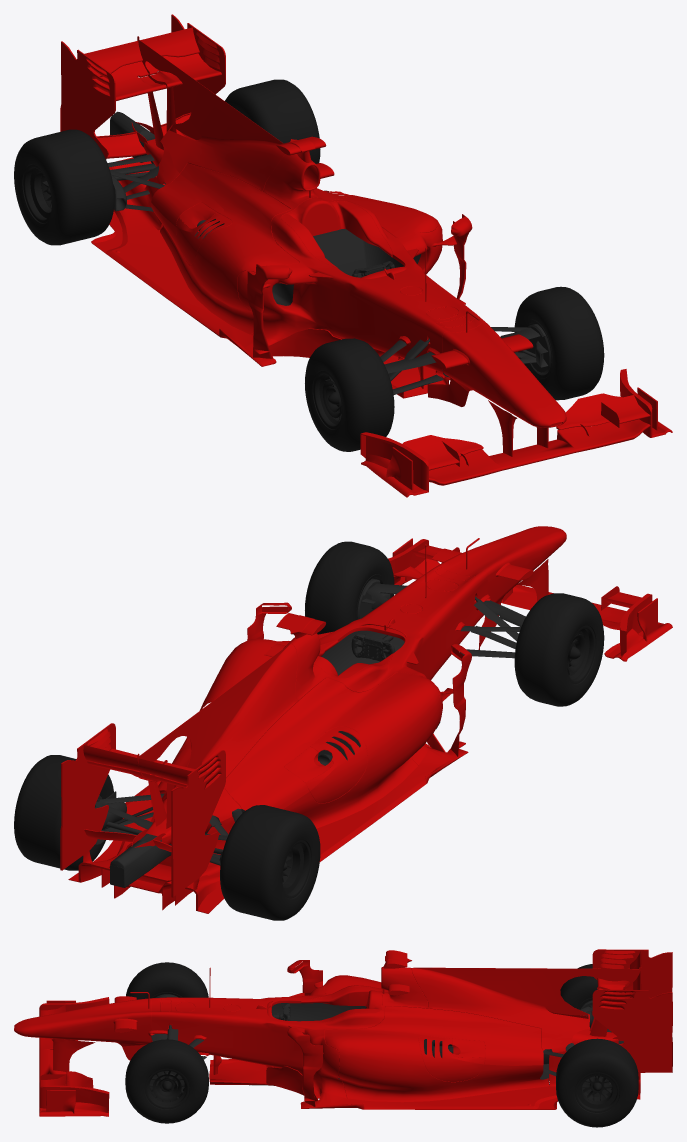
The model's file is 2014_ferrari_f1.glb.
3 renders of one model, top to bottom at view 1: azimuth 30°, elevation 25°; view 2: azimuth 150°, elevation 25°; view 3: azimuth 270°, elevation 25°, orthographic. The views are drawn at different scales.
Visible parts, largest first — view 1: Body, Treads, Front_Bumper, Back_Bumper, Tyres, Generic, Internal, Wheel_Plates; view 2: Body, Treads, Back_Bumper, Tyres, Front_Bumper, Generic, Internal, Wheel_Plates, Steering; view 3: Body, Back_Bumper, Tyres, Treads, Front_Bumper, Wheel_Plates, Internal, Generic.
Part boxes in pixels (left/top/right/bottom): Body: left=91, top=36, right=566, bottom=427; Treads: left=19, top=79, right=603, bottom=451; Front_Bumper: left=360, top=369, right=672, bottom=497; Back_Bumper: left=60, top=14, right=225, bottom=159; Tyres: left=14, top=93, right=604, bottom=449; Generic: left=107, top=154, right=551, bottom=394; Internal: left=110, top=111, right=449, bottom=377; Wheel_Plates: left=23, top=164, right=552, bottom=429; Body: left=68, top=526, right=566, bottom=913; Treads: left=14, top=541, right=596, bottom=920; Back_Bumper: left=60, top=723, right=225, bottom=897; Tyres: left=71, top=552, right=604, bottom=918; Front_Bumper: left=388, top=538, right=672, bottom=661; Generic: left=94, top=578, right=525, bottom=887; Internal: left=110, top=630, right=440, bottom=887; Wheel_Plates: left=99, top=574, right=595, bottom=898; Steering: left=351, top=634, right=395, bottom=661; Body: left=14, top=950, right=641, bottom=1109; Back_Bumper: left=592, top=949, right=672, bottom=1072; Tyres: left=129, top=976, right=635, bottom=1126; Treads: left=125, top=962, right=638, bottom=1127; Front_Bumper: left=39, top=997, right=109, bottom=1116; Wheel_Plates: left=144, top=992, right=619, bottom=1112; Internal: left=249, top=1003, right=623, bottom=1085; Generic: left=150, top=994, right=672, bottom=1096.
Size of the model in its own units: 1.8 by 1.09 by 5.14.
